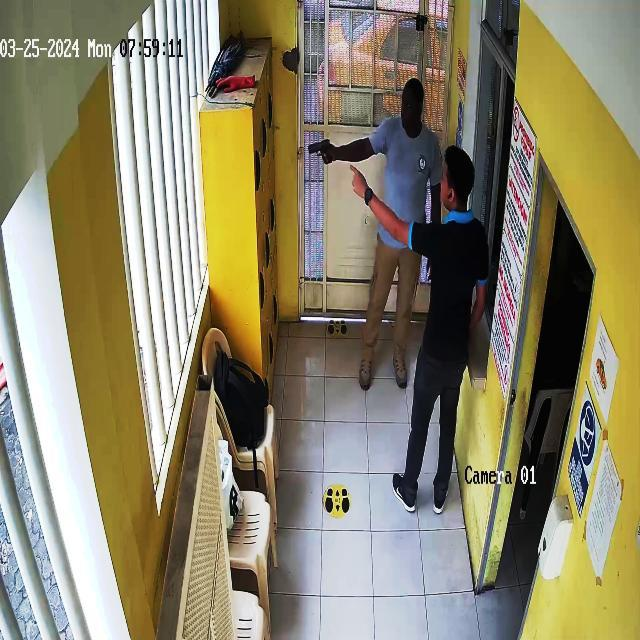Gun: (296, 120, 346, 168)
